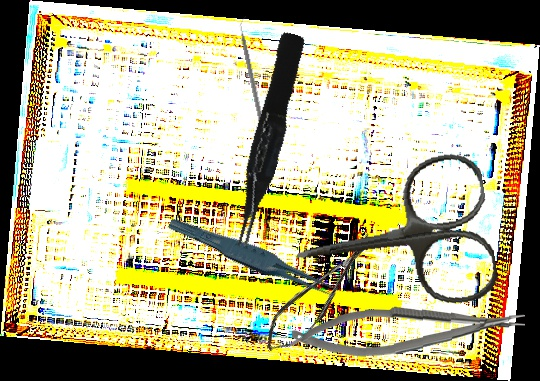Chopper: (236, 15, 273, 136)
Iris Scissors: (284, 149, 502, 328)
Micro Scissor: (254, 227, 388, 361)
Needle Holder: (291, 301, 526, 361)
Tissue Forceps: (218, 30, 316, 250), (167, 205, 343, 313)
